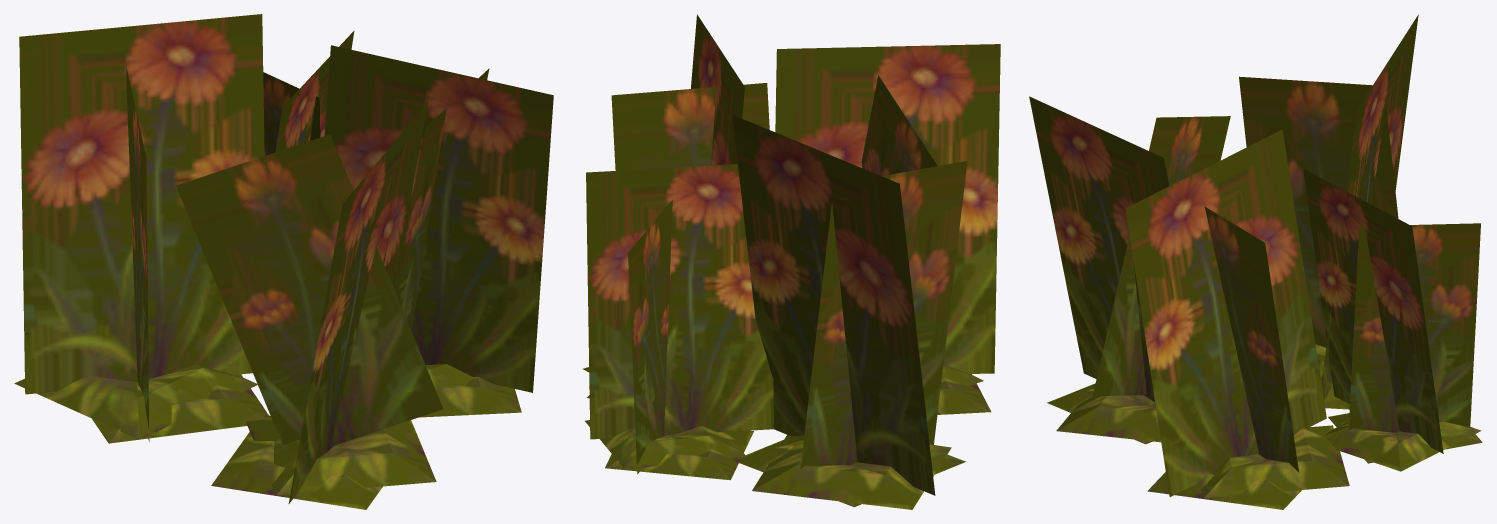
Rendered from Yland1_Zb_13_Yland1.FBX.
3 renders of one model, left to right at view 1: azimuth 30°, elevation 25°; view 2: azimuth 150°, elevation 25°; view 3: azimuth 270°, elevation 25°, orthographic. The views are drawn at different scales.
Visible parts, largest first — view 1: Yland1_Zb_13_Yland1; view 2: Yland1_Zb_13_Yland1; view 3: Yland1_Zb_13_Yland1.
Boxes of the visible parts, bbox=[...] form: Yland1_Zb_13_Yland1: bbox=[14, 14, 553, 509]; Yland1_Zb_13_Yland1: bbox=[583, 14, 1000, 509]; Yland1_Zb_13_Yland1: bbox=[1029, 14, 1482, 509].
Bounding box in the file's own units: 2.52 × 2.05 × 2.58.
